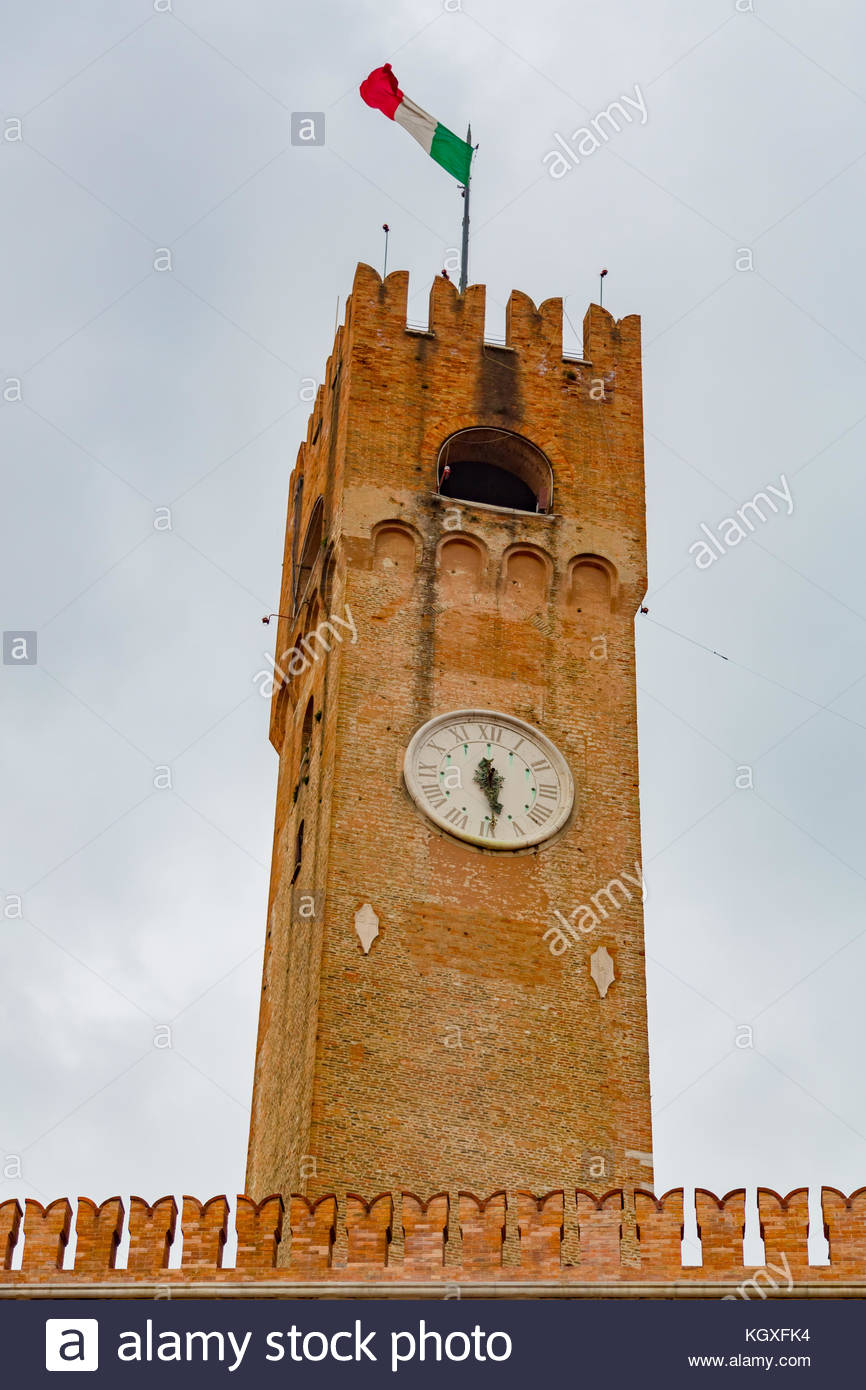Flag: (352, 58, 481, 196)
